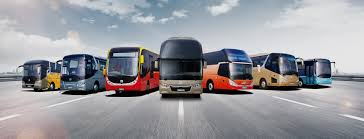bus: (157, 37, 203, 97), (105, 47, 160, 96), (199, 49, 252, 94), (249, 52, 299, 89), (59, 54, 107, 92), (16, 60, 61, 92), (297, 58, 337, 85)
